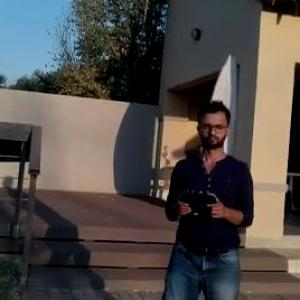follow: (152, 95, 258, 299)
